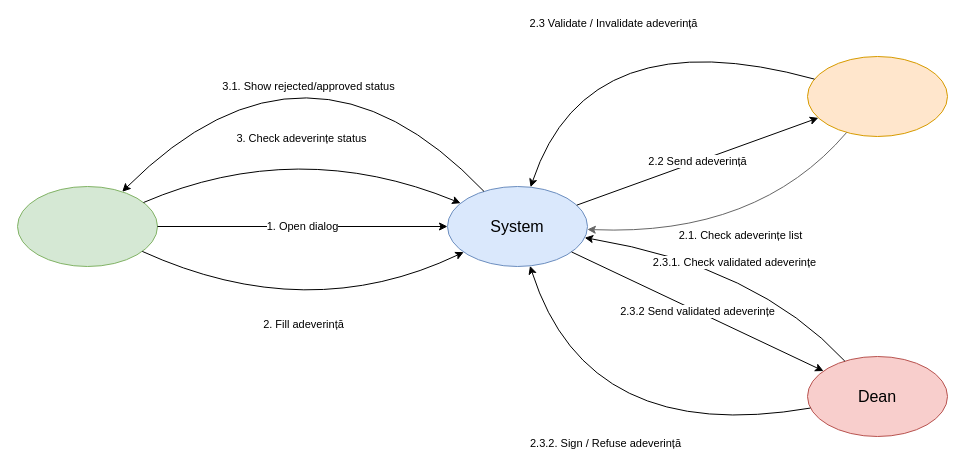
Image size: 965x467. Some labels were removed from this diagram. Each missing label, with the centre of its shape:
"Secretary" goes at (x=877, y=96).
"Student" goes at (x=87, y=226).
